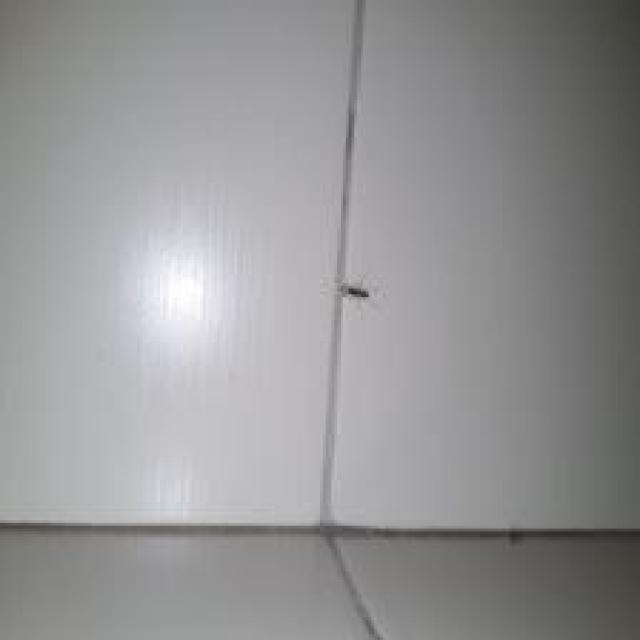Culex: (339, 283, 370, 300)
